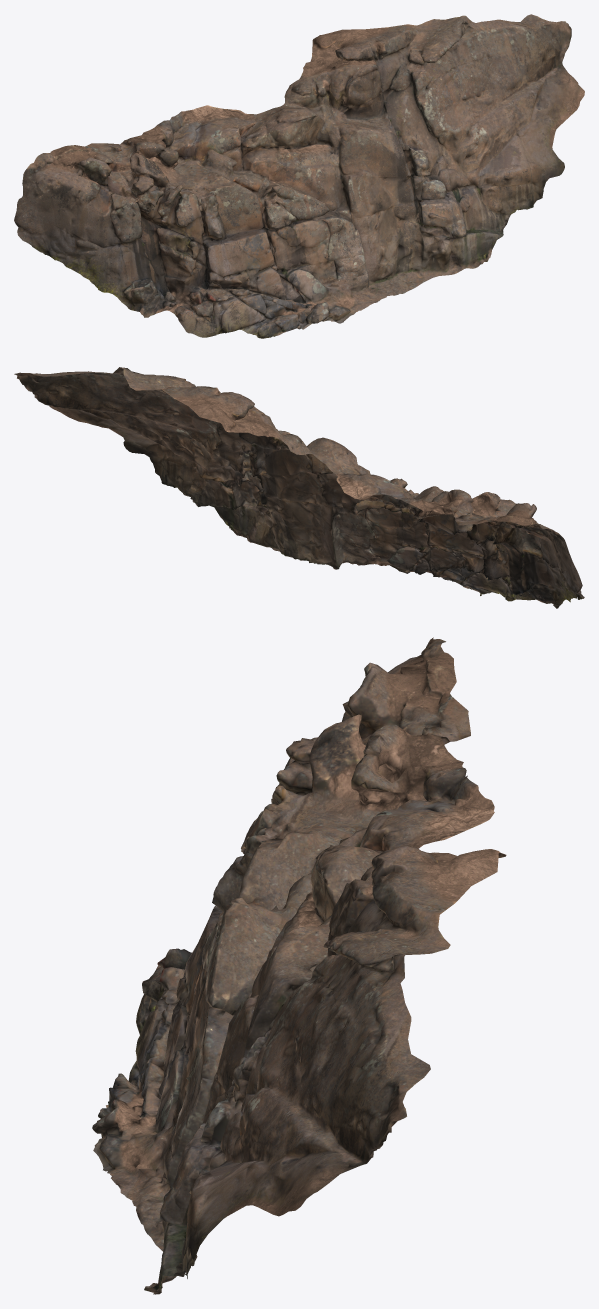
File: namaqualand_cliff_02.gltf
3 views of the same model, one above another, from view 1: azimuth 30°, elevation 25°; view 2: azimuth 150°, elevation 25°; view 3: azimuth 270°, elevation 25° (orthographic). The views are drawn at different scales.
Visible parts, largest first — view 1: drone_rock_02_LOD0; view 2: drone_rock_02_LOD0; view 3: drone_rock_02_LOD0.
Part boxes in pixels (x1,y1,x2,y2): drone_rock_02_LOD0: (14, 14, 584, 338); drone_rock_02_LOD0: (14, 367, 584, 608); drone_rock_02_LOD0: (92, 637, 506, 1294).
Bounding box in the file's own units: 20.23 × 7.18 × 6.59.
1 material, 1 textured.
